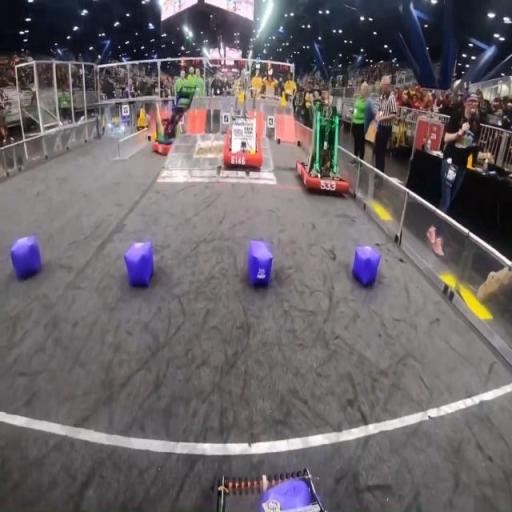robot: (296, 98, 350, 195), (224, 70, 264, 170), (154, 84, 196, 154)
